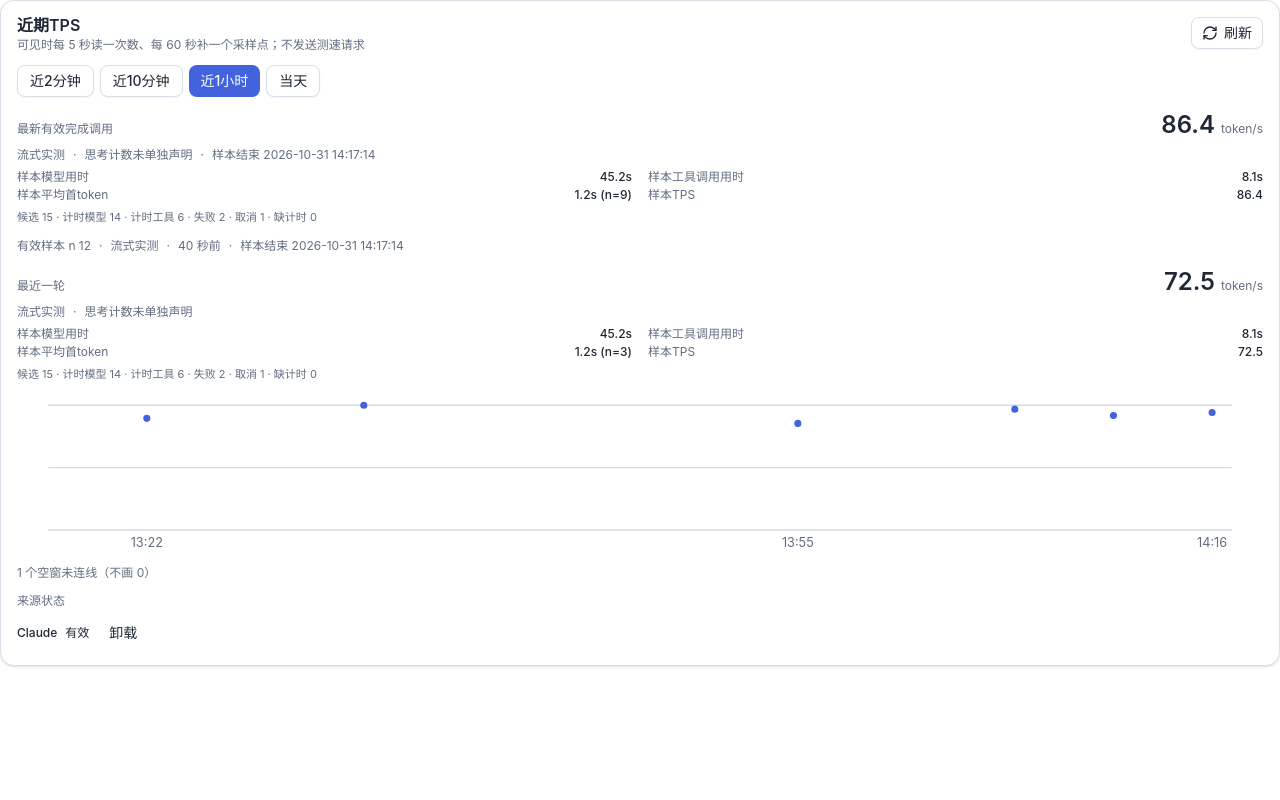
Test: TPS 独立区块（Task 8） › R10'：完整 UI 流程——已装 active → 卸载（历史保留）→ 安装入口出现 → 重装 → 卸载入口回来
Click the button with test id "tps-uninstall-claude" at (123, 633), box [97,617,149,649]
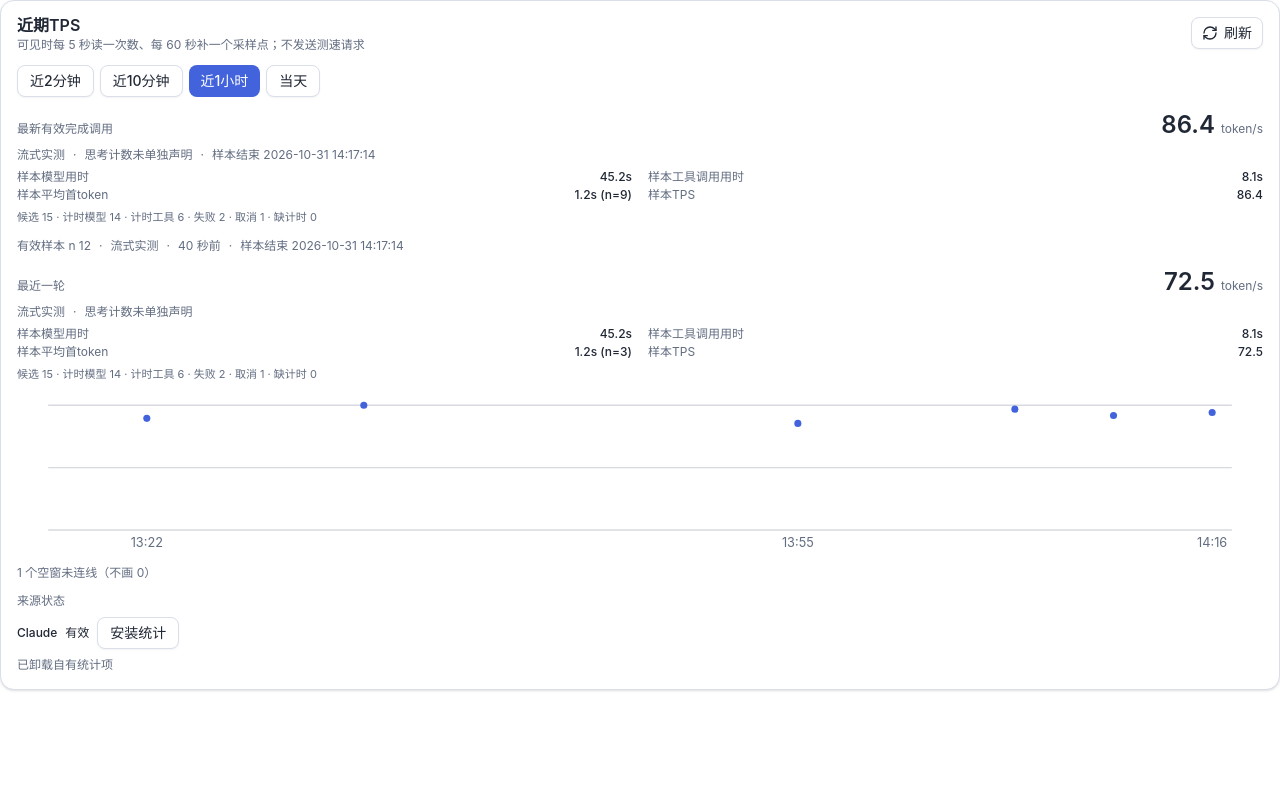
Expected: the element with test id "tps-card" shows "token/s", [1221,121,1263,136]
Now the button with test id "tps-install-claude" is shown
Click the button with test id "tps-install-claude" at (138, 633), box [97,617,179,649]
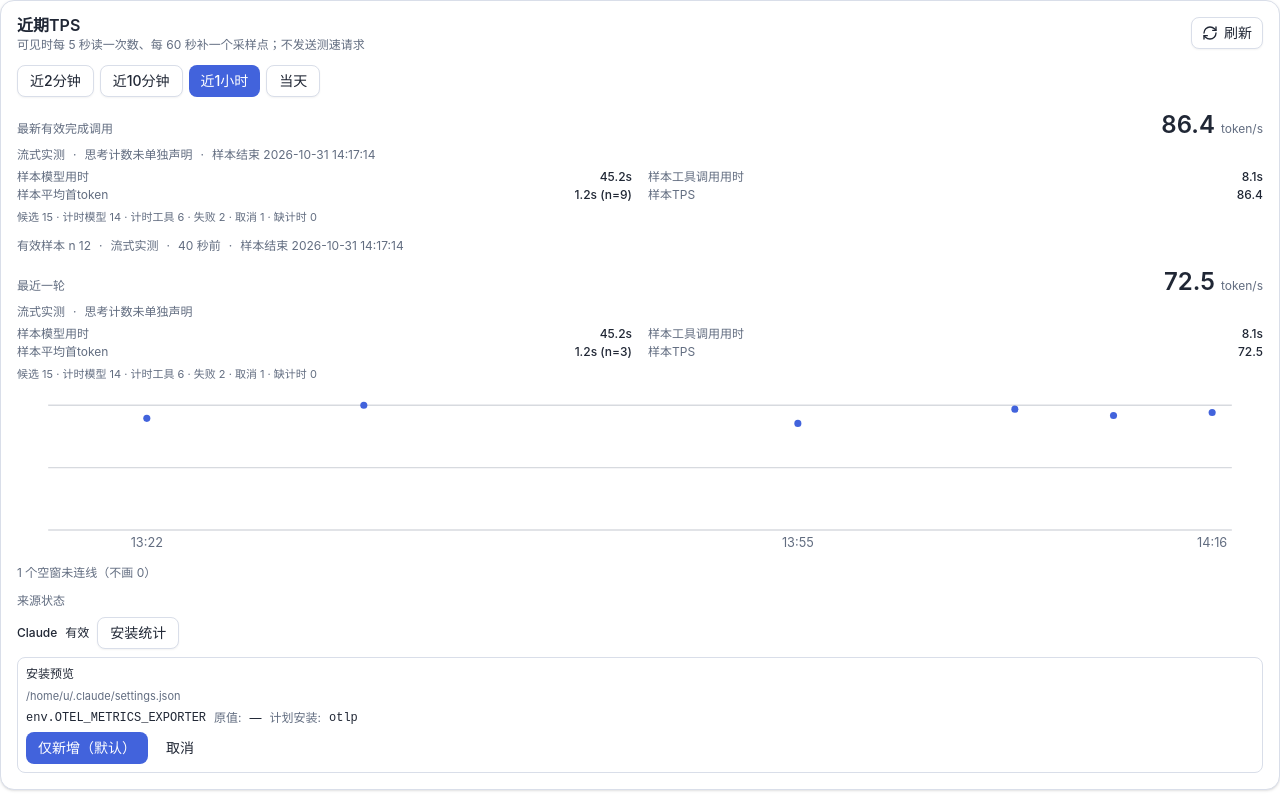
Now the element with test id "tps-preview" is shown, box [17,657,1263,773]
Click the button with test id "tps-apply" at (87, 748), box [26,732,148,764]
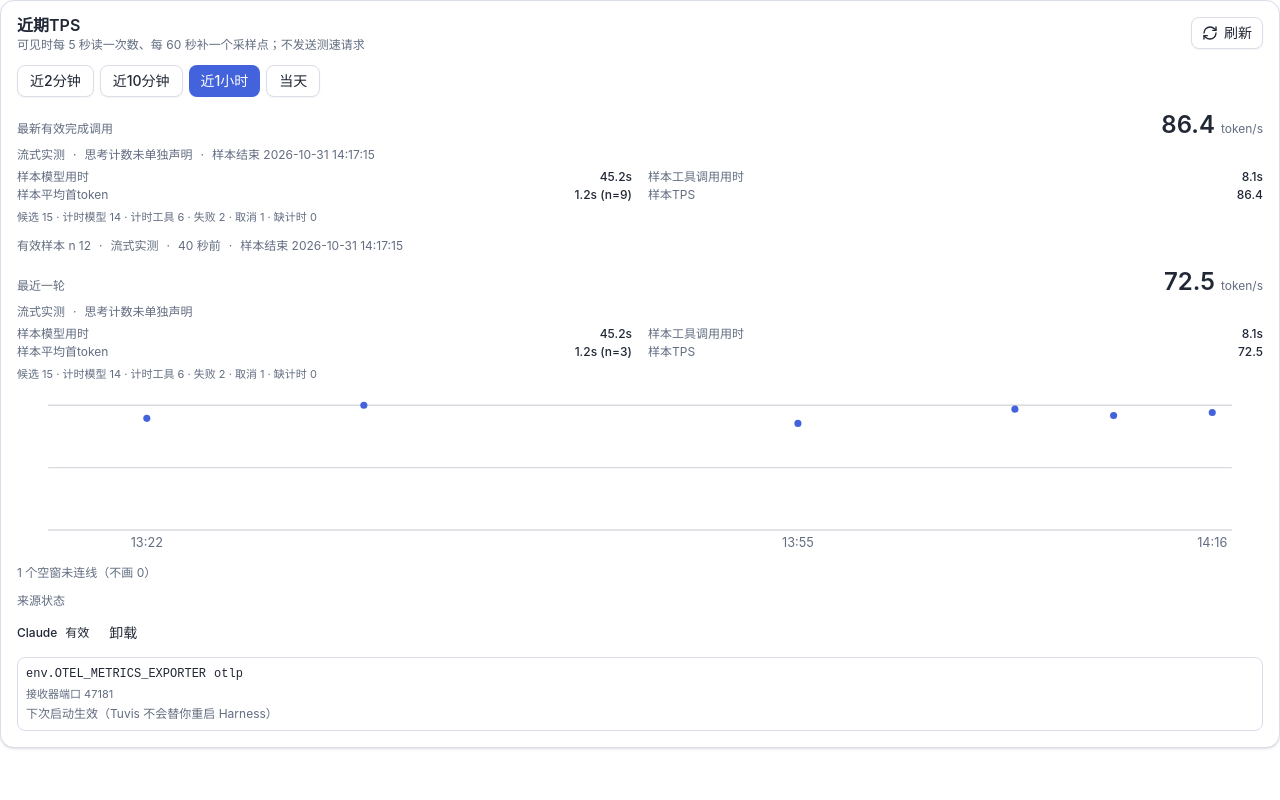
Now the text "下次启动生效（Tuvis 不会替你重启 Harness）" is shown, box [26,706,278,721]
Now the button with test id "tps-uninstall-claude" is shown, box [97,617,149,649]
Now the button with test id "tps-install-claude" is gone
